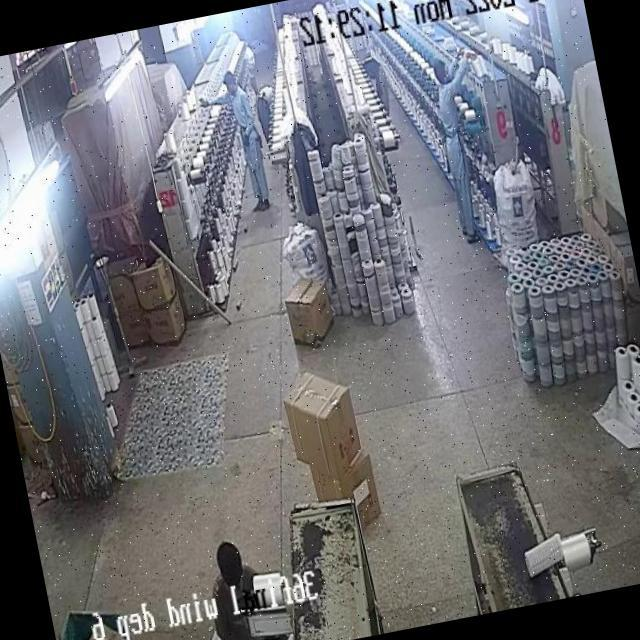person: (427, 54, 488, 244), (225, 69, 274, 199), (207, 524, 263, 634), (364, 54, 394, 105)
